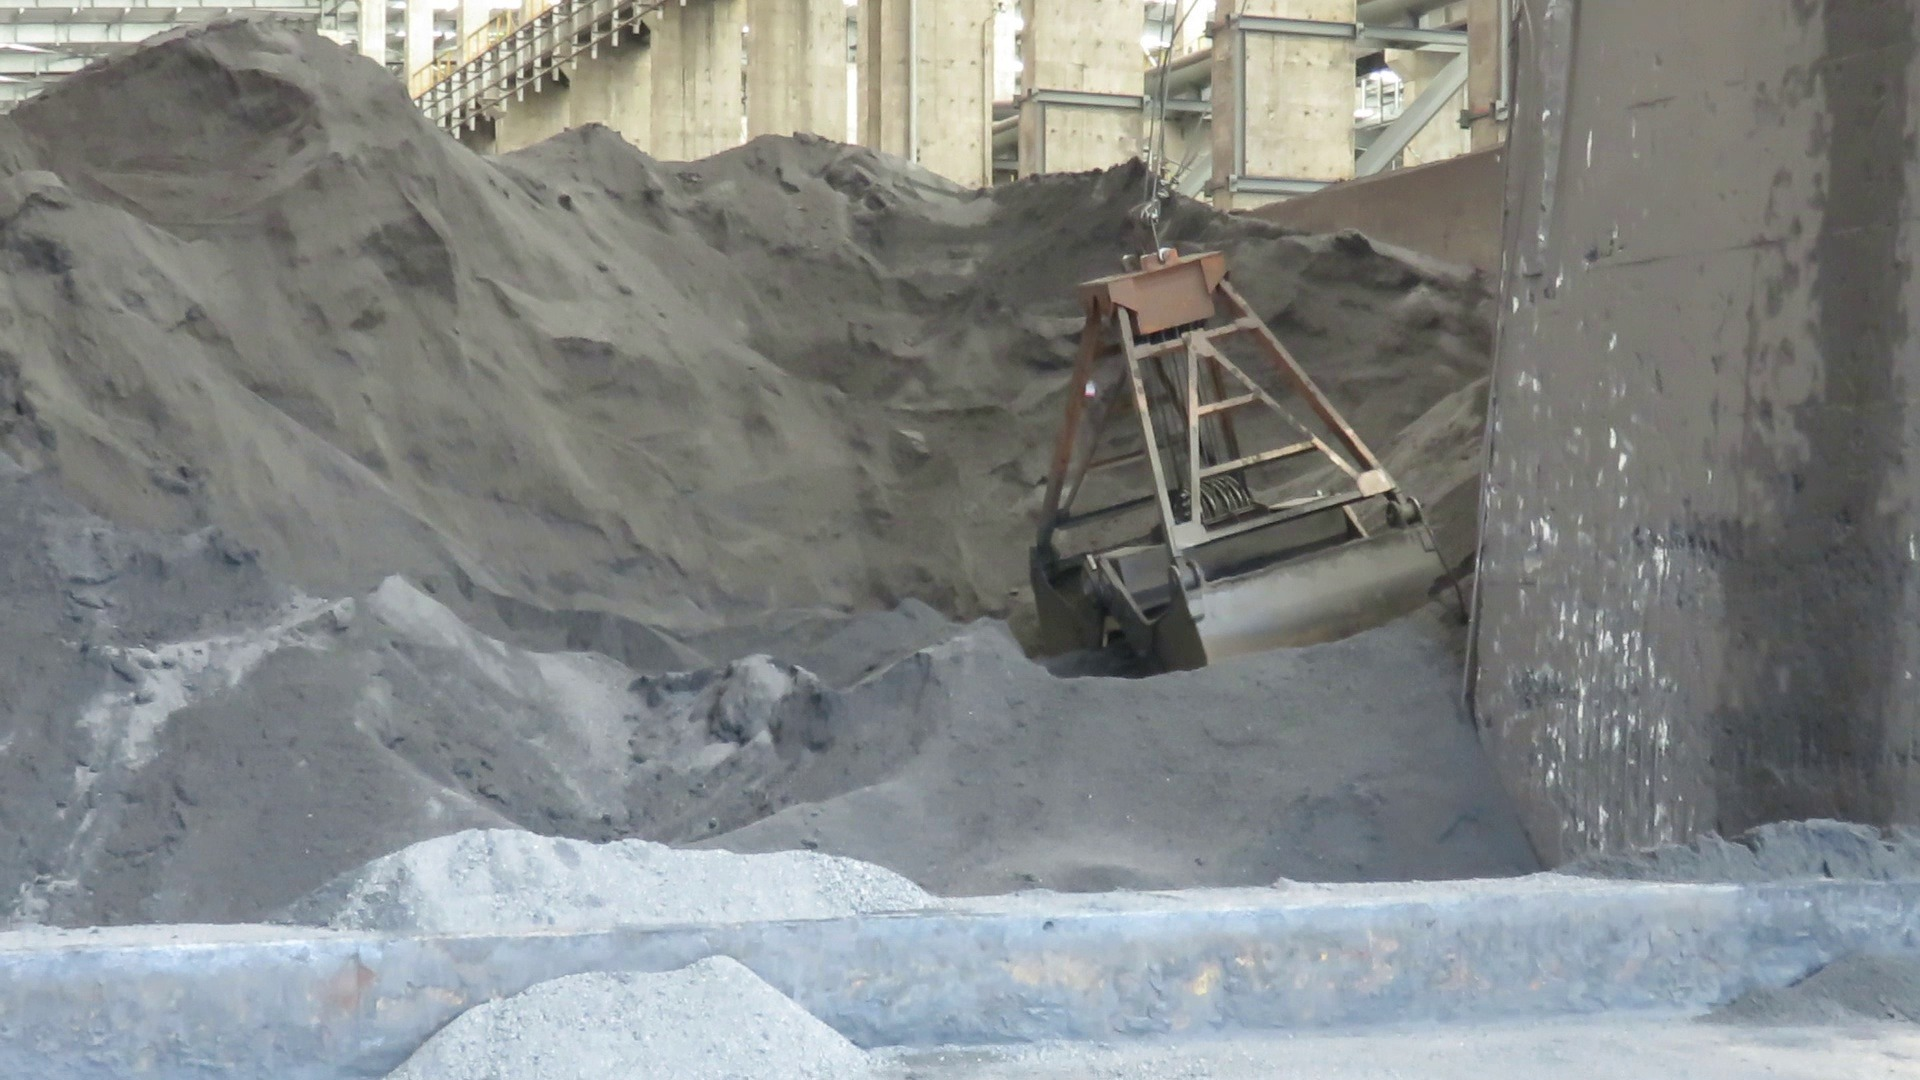grab: (1019, 225, 1451, 679)
